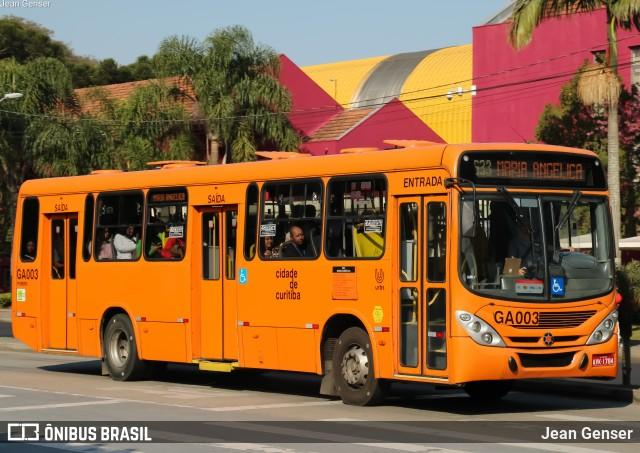MARIA ANGELICA: (492, 154, 586, 182)
